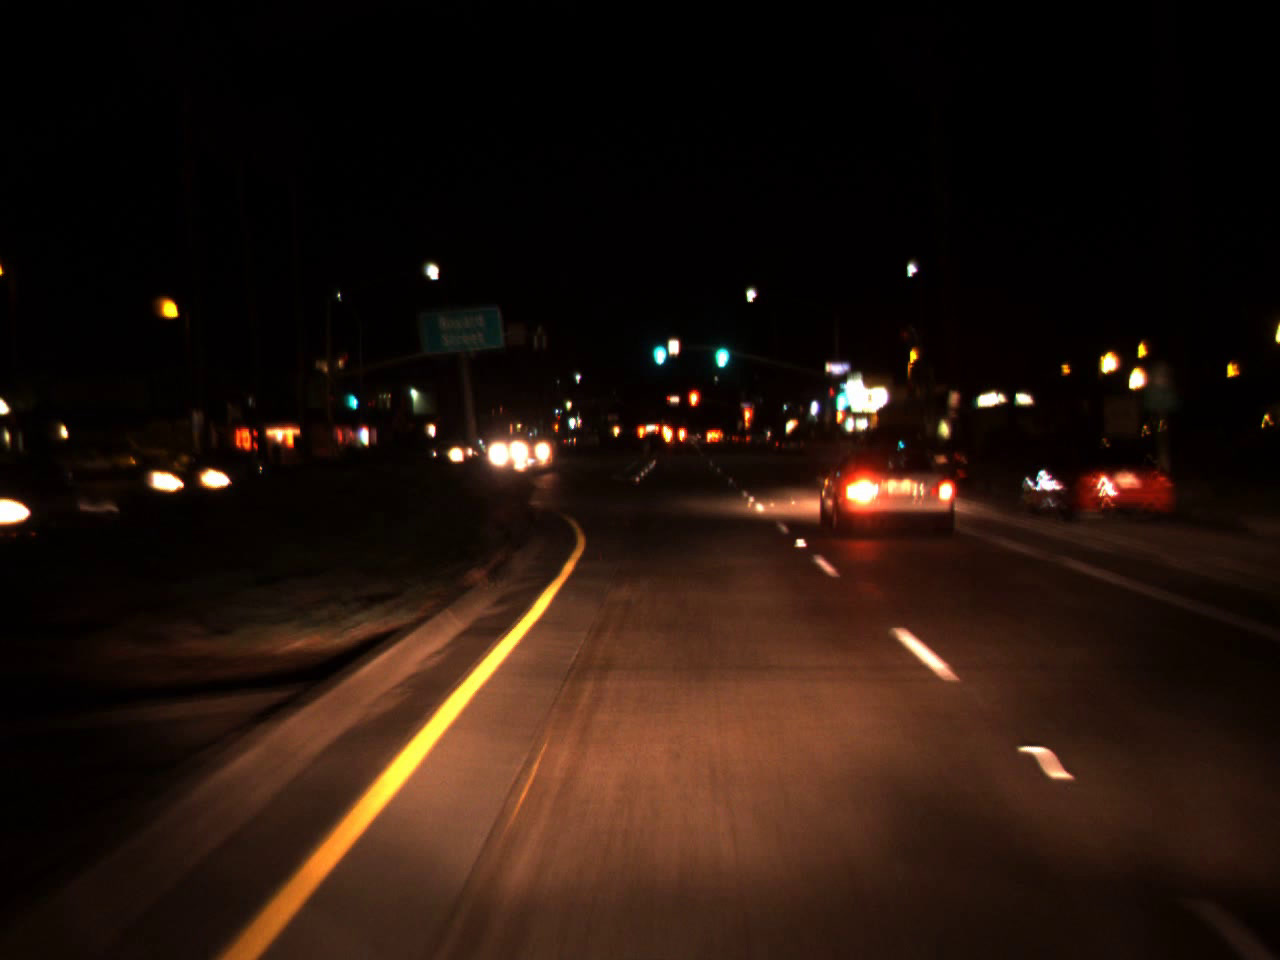go: (648, 321, 669, 372), (710, 326, 731, 371), (830, 374, 849, 413), (346, 378, 360, 414)
stop: (686, 387, 701, 427), (740, 403, 753, 432)
